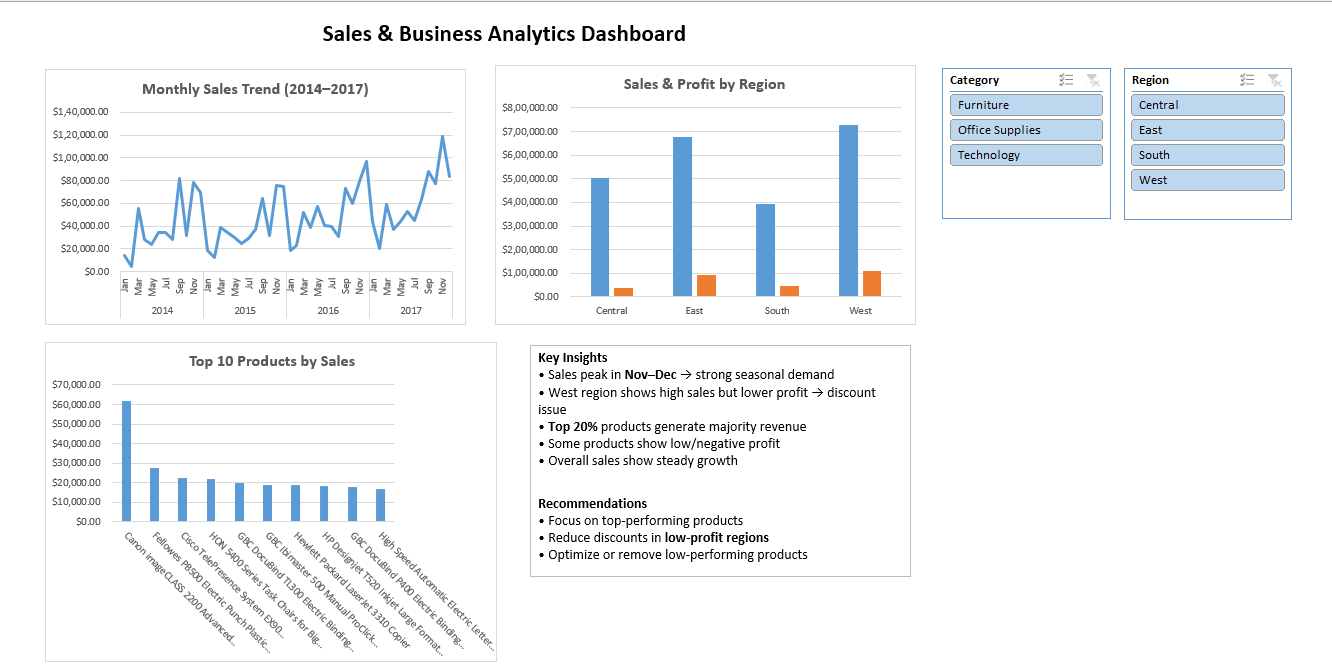

Layout of this report page (visuals, bound fields, positions):
{"tool":"powerbi","page":{"name":"Page 1","canvas":[1280,720],"ordinal":0},"visuals":[{"type":"lineChart","title":"Monthly Sales Trend","fields":{"Category":["Sample___Superstore_1.Order Date.Variation.Date Hierarchy.Year","Sample___Superstore_1.Order Date.Variation.Date Hierarchy.Month"],"Y":["Sum(Sample___Superstore_1.Sales)"]},"box":[0,77,639.5,282.5],"z":0},{"type":"clusteredColumnChart","title":"Sales & Profit by Region","fields":{"Category":["Sample___Superstore_1.Region"],"Y":["Sum(Sample___Superstore_1.Sales)","Sum(Sample___Superstore_1.Profit)"]},"box":[639.5,77,640.8,282.5],"z":1},{"type":"barChart","title":"Top 10 Products by Sales","fields":{"Category":["Sample___Superstore_1.Product Name"],"Y":["Sum(Sample___Superstore_1.Sales)"]},"box":[0,359.5,639.5,360.7],"z":2},{"type":"listSlicer","fields":{"Values":["Sample___Superstore_1.Region"]},"box":[990.5,359.5,138.2,360.7],"z":3},{"type":"listSlicer","fields":{"Values":["Sample___Superstore_1.Category"]},"box":[1128.7,359.5,151.6,360.7],"z":4},{"type":"card","fields":{"Values":["Sum(Sample___Superstore_1.Sales)"]},"box":[218.9,0,133.3,77],"z":5},{"type":"card","fields":{"Values":["Sum(Sample___Superstore_1.Profit)"]},"box":[369.3,0,116.2,77],"z":6},{"type":"textbox","box":[639.5,359.5,351,360.7],"z":7}]}

Visuals, with their boxes on the page's 1280x720 design canvas (x1, y1, x2, y2). These are canvas units, not pixel positions in the 1332x667 screenshot, which may show the page scaled, cropped or inside an application window:
"Monthly Sales Trend" lineChart: bbox=(0, 77, 640, 360)
"Sales & Profit by Region" clusteredColumnChart: bbox=(640, 77, 1280, 360)
"Top 10 Products by Sales" barChart: bbox=(0, 360, 640, 720)
listSlicer - Sample___Superstore_1.Region: bbox=(990, 360, 1129, 720)
listSlicer - Sample___Superstore_1.Category: bbox=(1129, 360, 1280, 720)
card - Sum(Sample___Superstore_1.Sales): bbox=(219, 0, 352, 77)
card - Sum(Sample___Superstore_1.Profit): bbox=(369, 0, 486, 77)
textbox: bbox=(640, 360, 990, 720)
